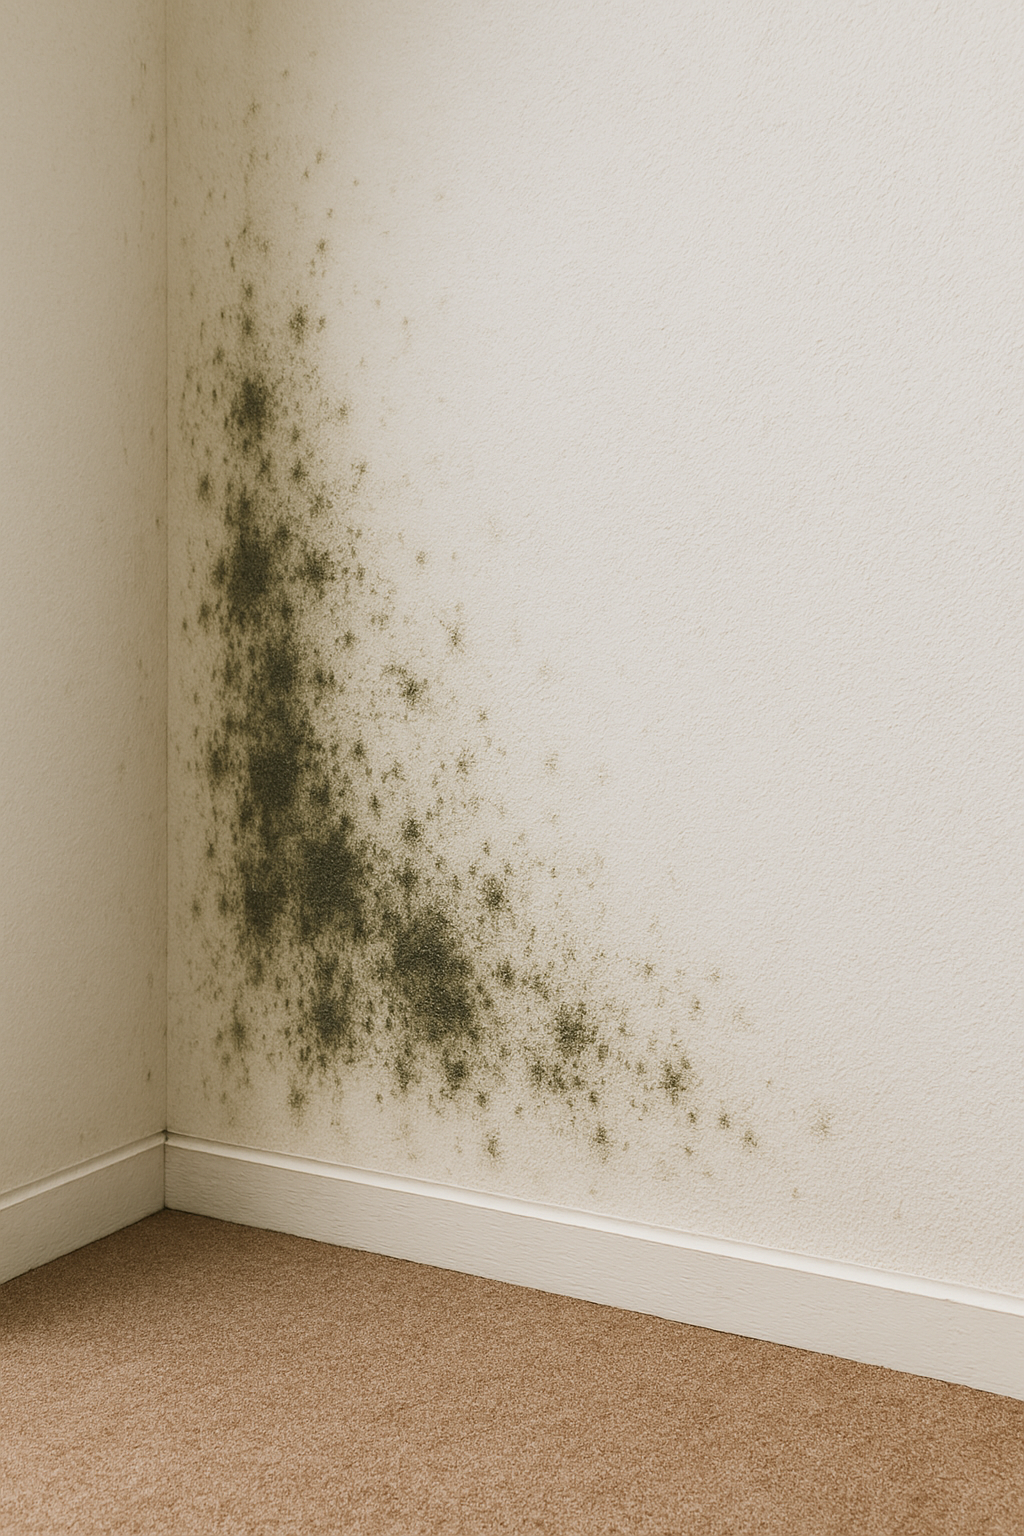schimmel: (194, 475, 310, 963), (397, 889, 489, 1087), (313, 745, 362, 1070), (195, 347, 318, 438), (555, 990, 611, 1121)
